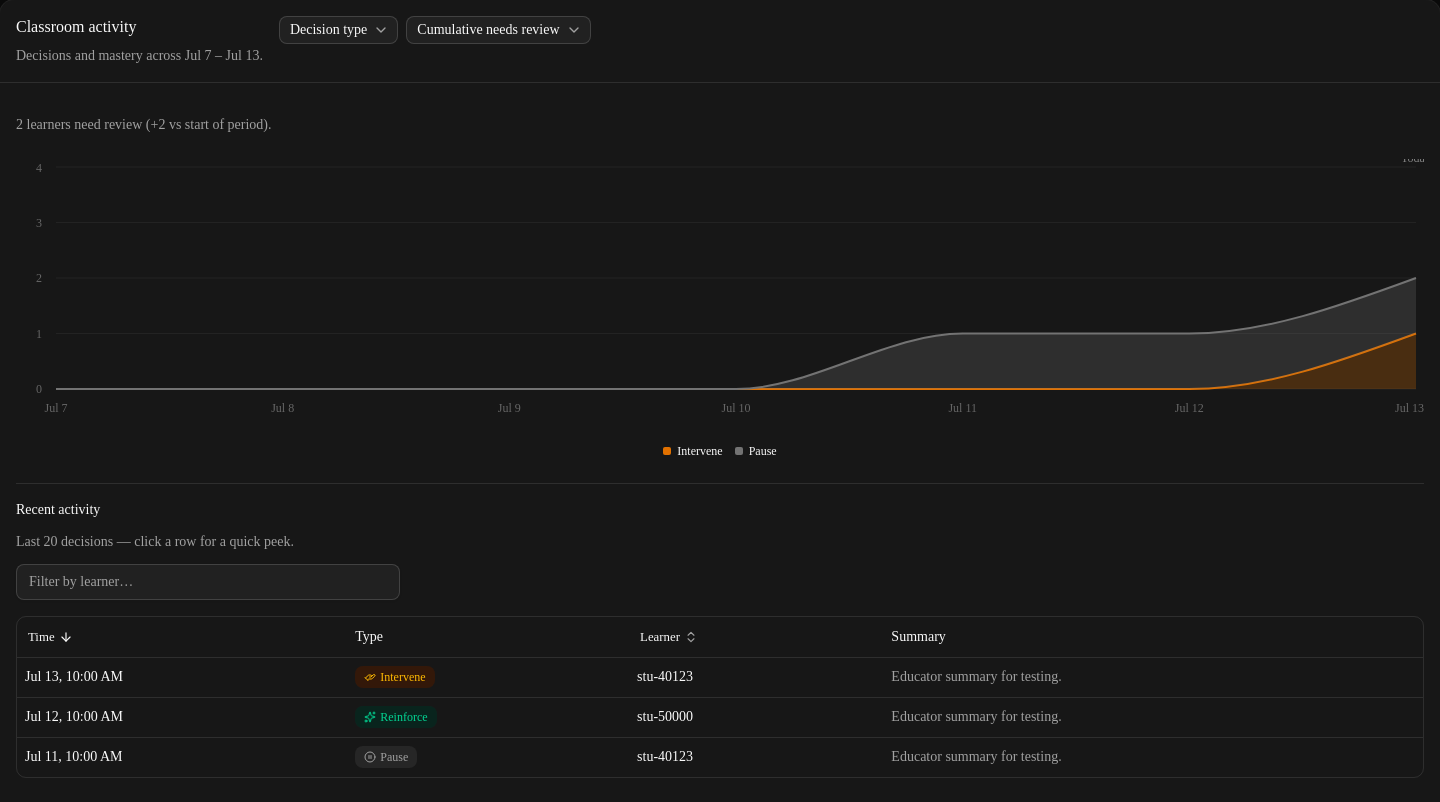
OVACT-010: sync ON legend sets decision filter › shows Filtered: Intervene chip in panel header and filters table rows
Click the button "Intervene": (693, 451) [663,443,723,459]
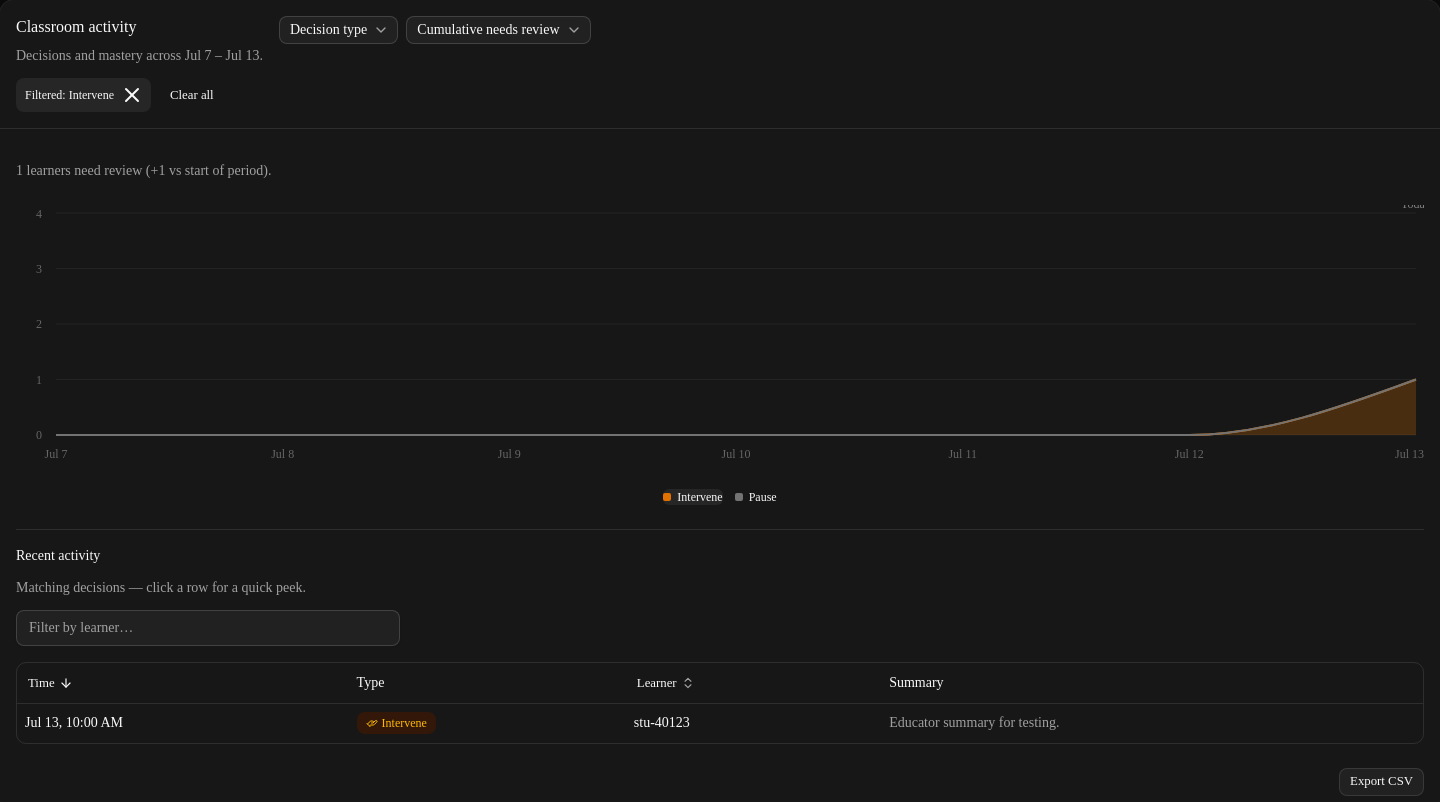
Now the text "Filtered: Intervene" is shown, box [16,78,151,112]
Now the text "Matching decisions — click a row for a quick peek." is shown, box [16,580,306,595]
Now the button "stu-50000" is gone
